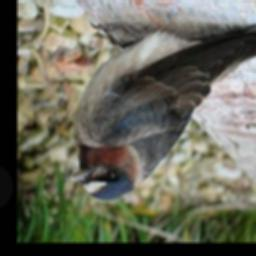Swallow: (64, 7, 256, 206)
